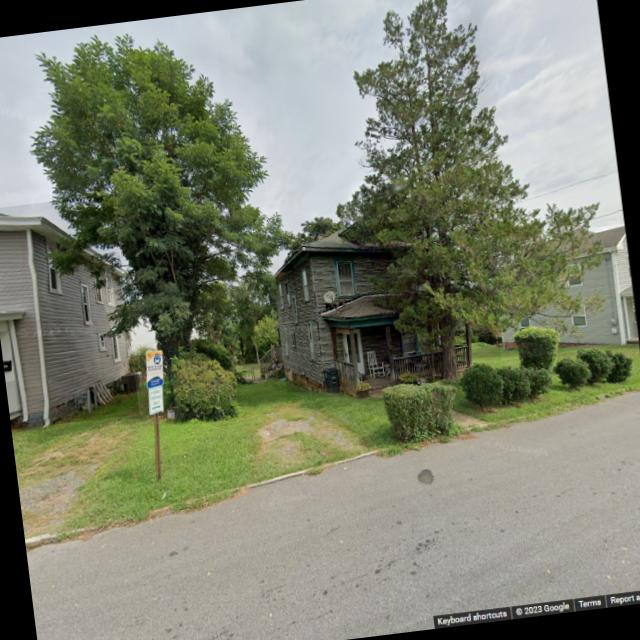House: (0, 193, 139, 429), (268, 218, 447, 392), (486, 223, 640, 360)
